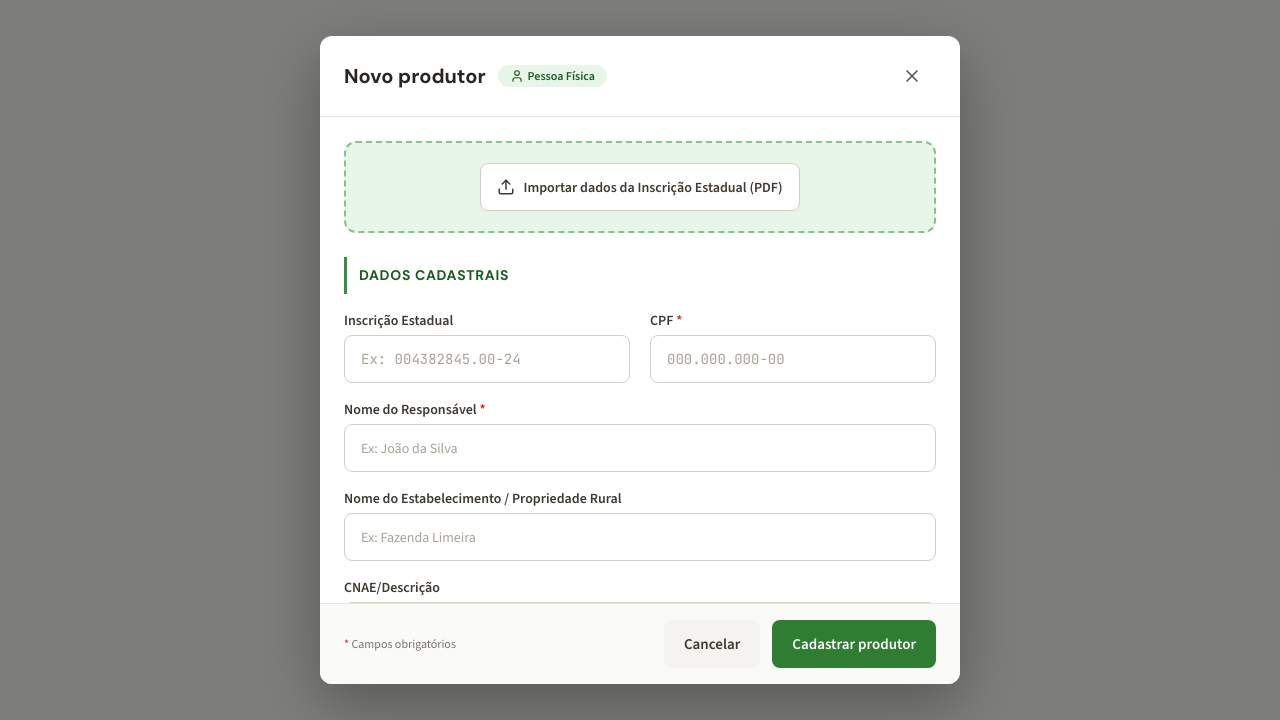
Test: ProducerPFFormModal › should not submit when required fields are empty
Click the button "Cadastrar produtor" at (854, 644), box left=772, top=620, right=936, bottom=668
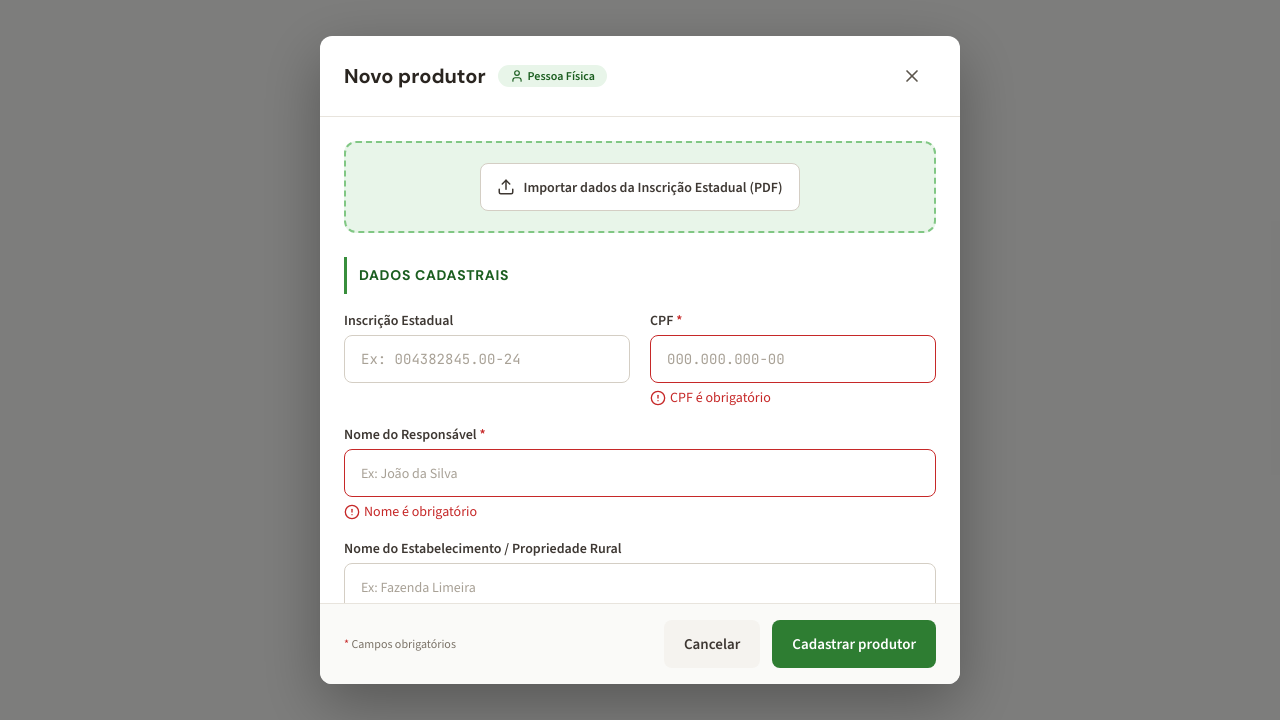
Check: the text "Nome é obrigatório" is shown, box left=344, top=502, right=477, bottom=521
Check: the text "CPF é obrigatório" is shown, box left=650, top=388, right=771, bottom=407
